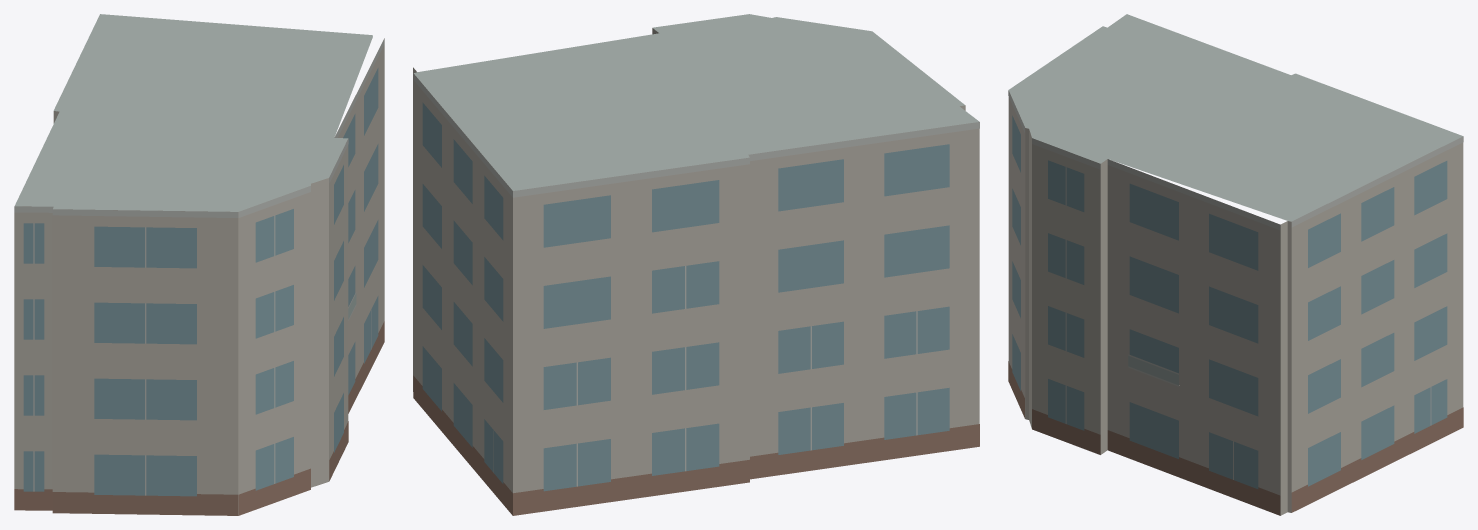
File: survey-upis-33005109.glb
The picture shows the model from 3 angles, left to right: view 1: azimuth 30°, elevation 25°; view 2: azimuth 150°, elevation 25°; view 3: azimuth 270°, elevation 25°; orthographic projection. The views are drawn at different scales.
Visible parts, largest first — view 1: survey-upis-33005109.tmp; view 2: survey-upis-33005109.tmp; view 3: survey-upis-33005109.tmp.
Boxes of the visible parts, <box> form: survey-upis-33005109.tmp: <box>14,14,384,515</box>; survey-upis-33005109.tmp: <box>413,14,979,515</box>; survey-upis-33005109.tmp: <box>1008,14,1463,515</box>.
Size of the model in its own units: 18.46 by 11.9 by 16.85.
